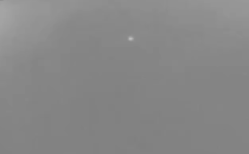Target: (128, 38, 132, 41)
